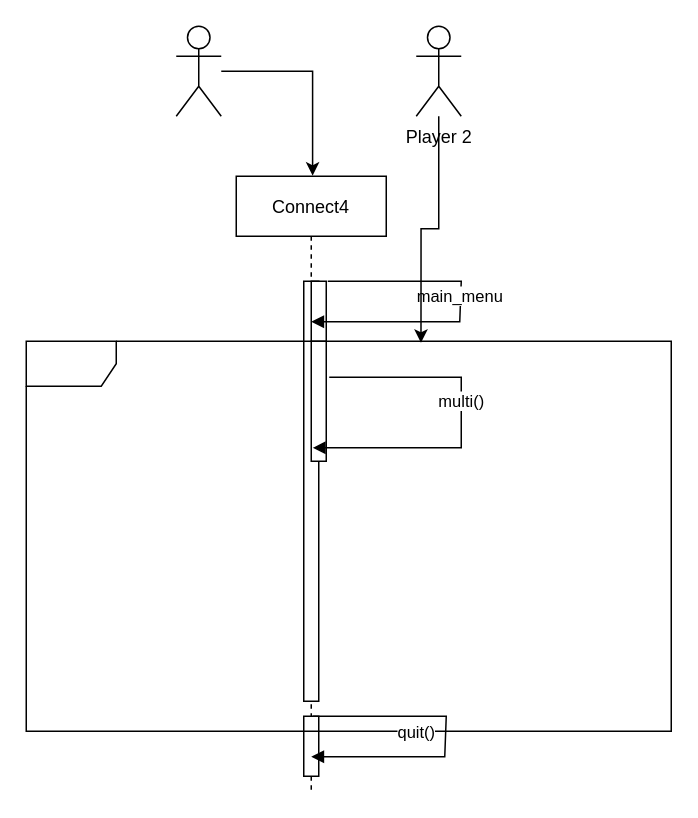
Some shapes in this 698 by 818 pixel diagram are drawn without their labels. The centre of each missing label's shape, as x and y in pixels:
"loop" goes at [348,535].
"Player 1" goes at [198,70].
